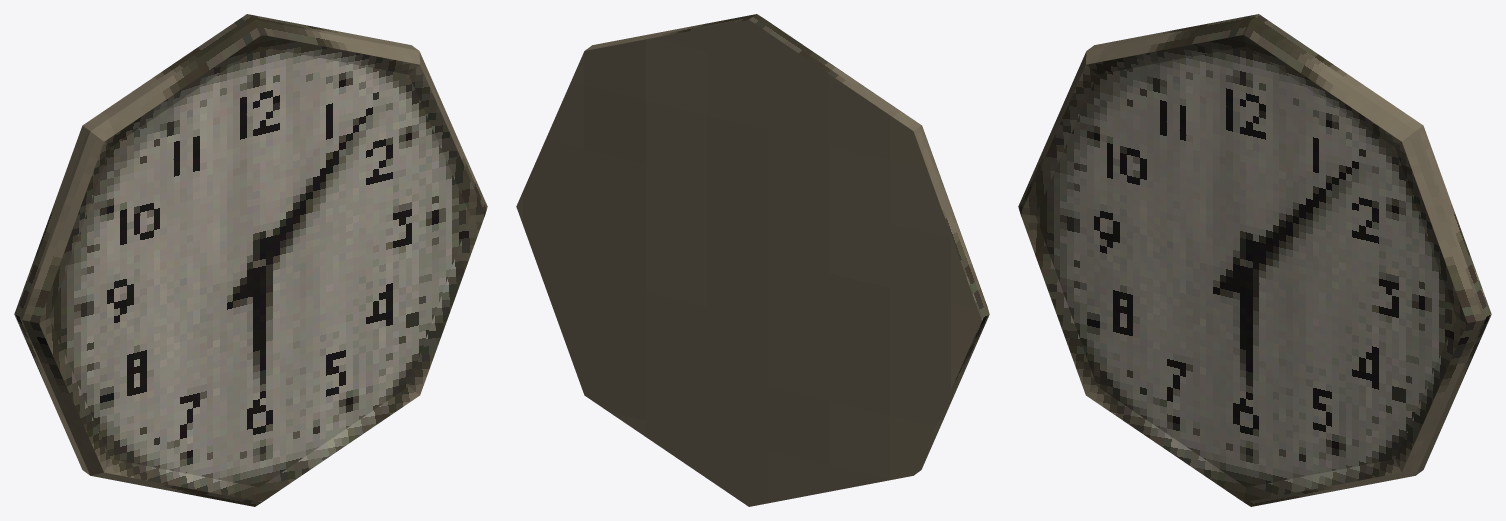
The model's file is wall_clock.fbx.
The picture shows the model from 3 angles, left to right: view 1: azimuth 30°, elevation 25°; view 2: azimuth 150°, elevation 25°; view 3: azimuth 330°, elevation 25°; orthographic projection.
Visible parts, largest first — view 1: wall_clock; view 2: wall_clock; view 3: wall_clock.
Part boxes in pixels (x1=…): wall_clock: x1=14, y1=14, x2=487, y2=506; wall_clock: x1=516, y1=14, x2=989, y2=506; wall_clock: x1=1018, y1=14, x2=1491, y2=506.
Bounding box in the file's own units: 60.42 × 60.42 × 3.39.
1 material, 1 textured.
